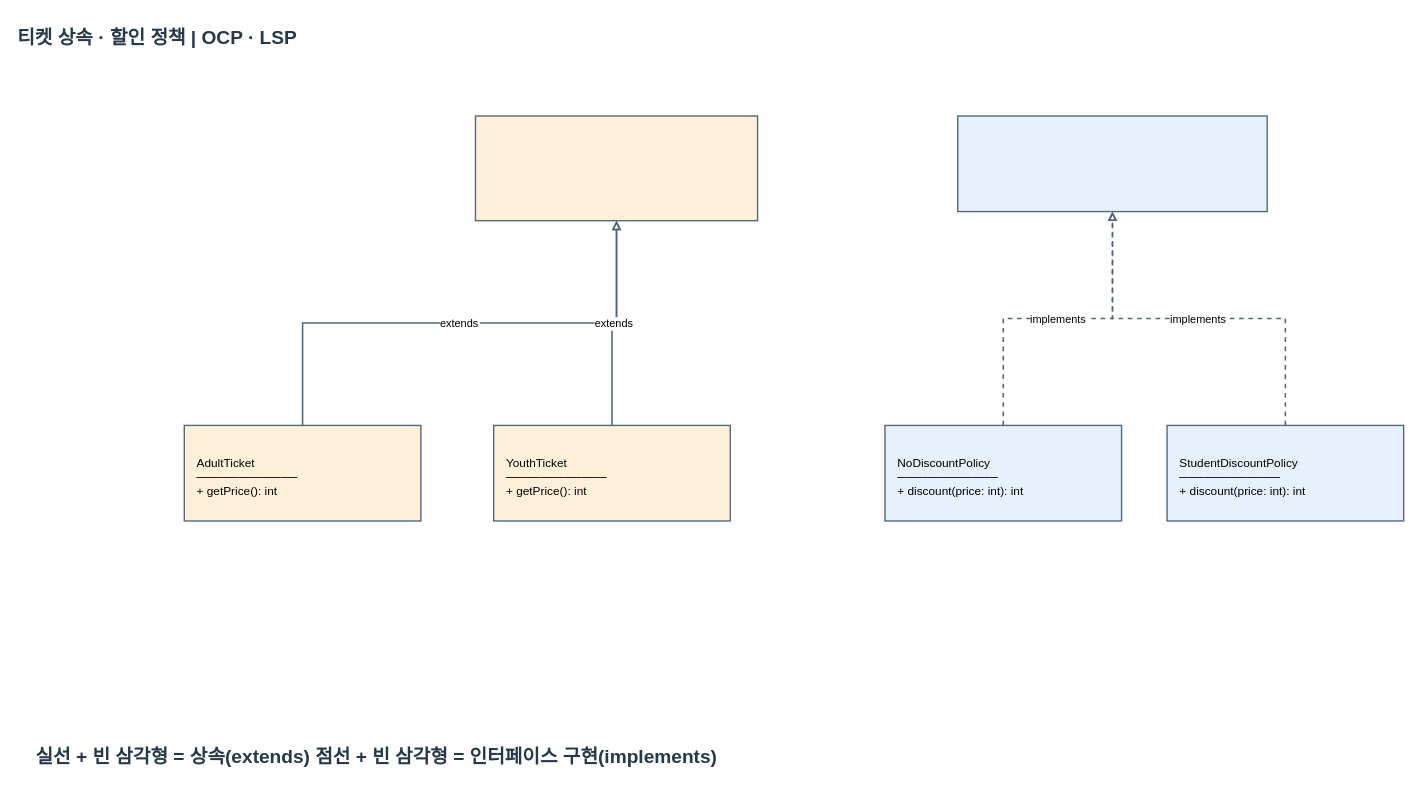
The diagram is 1420 pixels wide and 791 high, and some of its shapes have lost their labels. Here are the shapes that lost their labels. From the top down, the centre of each, then its label:
point (616, 168): «abstract» Ticket # basePrice: int ──────────── + getPrice(): int
point (1112, 163): «interface» DiscountPolicy ──────────── + discount(price: int): int
